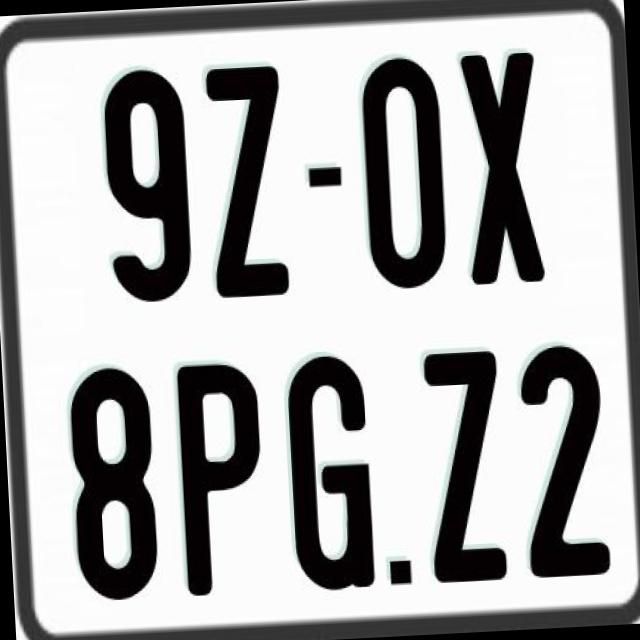0: (360, 52, 454, 288)
2: (515, 339, 607, 576)
8: (68, 361, 168, 607)
9: (101, 68, 196, 305)
G: (284, 354, 379, 594)
P: (174, 357, 268, 593)
X: (460, 47, 548, 280)
Z: (203, 66, 294, 302), (419, 350, 506, 590)
